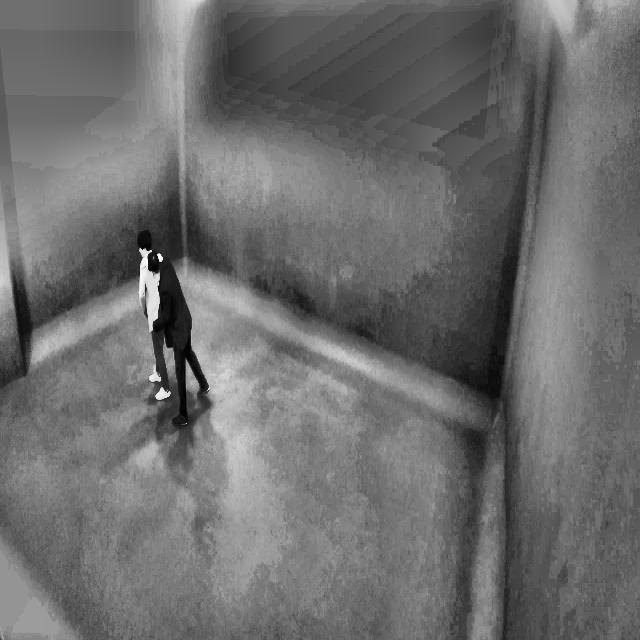assult: (137, 227, 214, 430)
